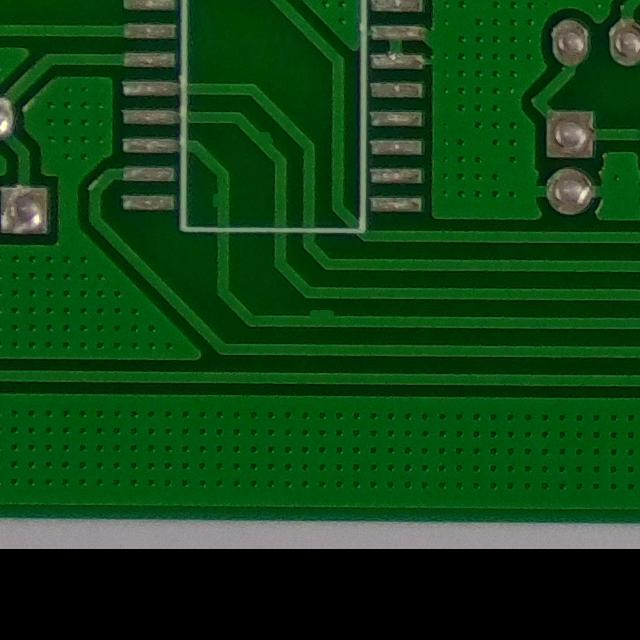spur: (300, 300, 341, 340)
